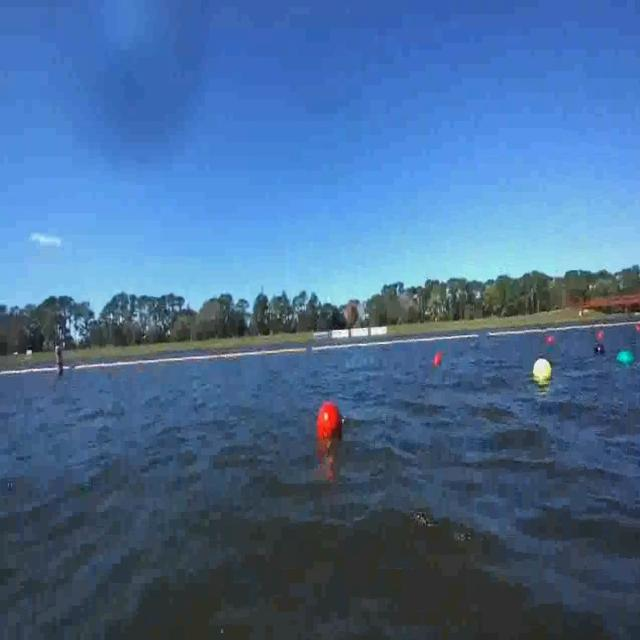black-buoy: (594, 344, 606, 354)
green-buoy: (618, 352, 634, 366)
red-buoy: (317, 401, 343, 445)
red-column-buoy: (433, 352, 443, 368)
yellow-buoy: (535, 358, 556, 384)
